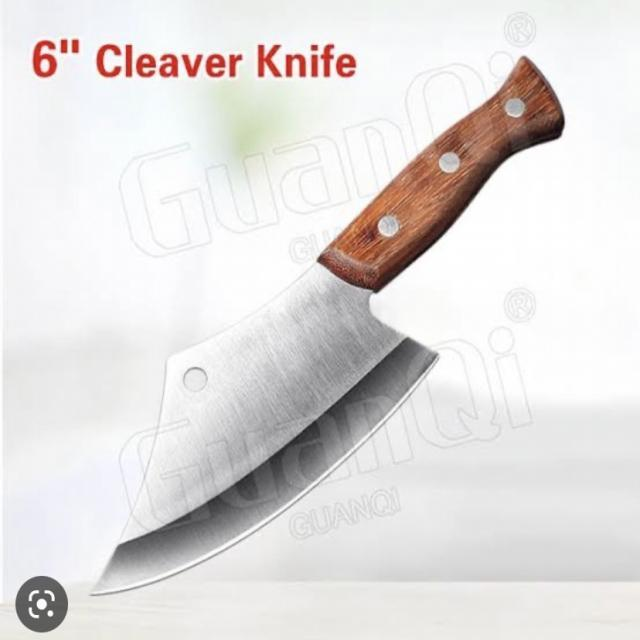Knife: (34, 23, 618, 616)
